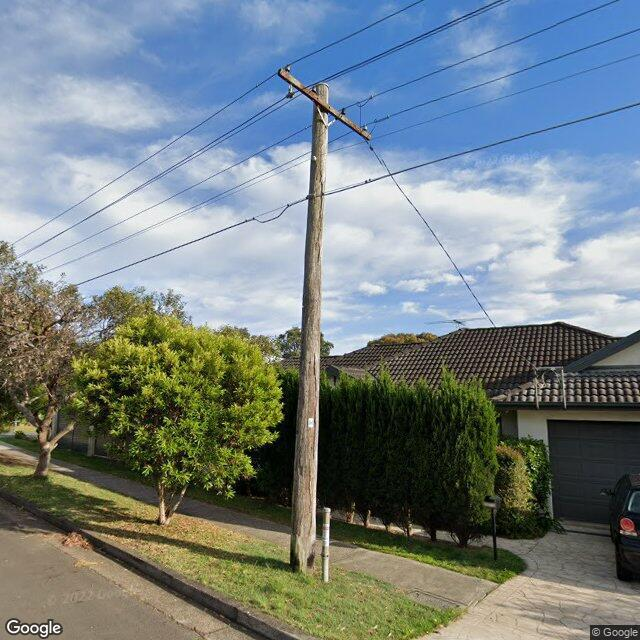crossarm: (276, 64, 373, 141)
timber-pole: (289, 83, 330, 574)
